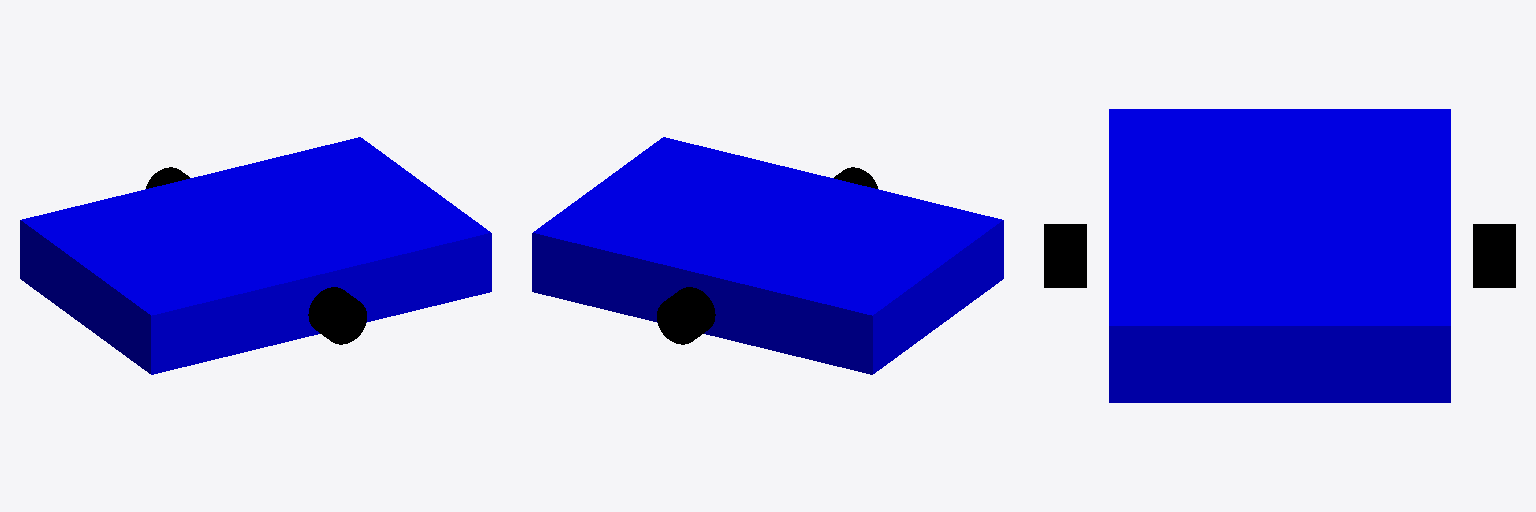
robot.urdf — working_mobile_robot:
<?xml version="1.0"?>
<robot name="working_mobile_robot">
  
  <!-- Base Link -->
  <link name="base_link">
    <inertial>
      <mass value="5.0"/>
      <inertia ixx="0.1" ixy="0.0" ixz="0.0" iyy="0.1" iyz="0.0" izz="0.1"/>
    </inertial>
    <visual>
      <geometry>
        <box size="0.6 0.4 0.1"/>
      </geometry>
      <material name="blue">
        <color rgba="0 0 1 1"/>
      </material>
    </visual>
    <collision>
      <geometry>
        <box size="0.6 0.4 0.1"/>
      </geometry>
    </collision>
  </link>

  <!-- Left Wheel -->
  <link name="left_wheel">
    <inertial>
      <mass value="1.0"/>
      <inertia ixx="0.1" ixy="0.0" ixz="0.0" iyy="0.1" iyz="0.0" izz="0.1"/>
    </inertial>
    <visual>
      <geometry>
        <cylinder radius="0.0375" length="0.05"/>
      </geometry>
      <material name="black">
        <color rgba="0 0 0 1"/>
      </material>
    </visual>
    <collision>
      <geometry>
        <cylinder radius="0.0375" length="0.05"/>
      </geometry>
    </collision>
  </link>

  <!-- Right Wheel -->
  <link name="right_wheel">
    <inertial>
      <mass value="1.0"/>
      <inertia ixx="0.1" ixy="0.0" ixz="0.0" iyy="0.1" iyz="0.0" izz="0.1"/>
    </inertial>
    <visual>
      <geometry>
        <cylinder radius="0.0375" length="0.05"/>
      </geometry>
      <material name="black">
        <color rgba="0 0 0 1"/>
      </material>
    </visual>
    <collision>
      <geometry>
        <cylinder radius="0.0375" length="0.05"/>
      </geometry>
    </collision>
  </link>

  <!-- Caster Front -->
  <link name="caster_front">
    <inertial>
      <mass value="0.5"/>
      <inertia ixx="0.01" ixy="0.0" ixz="0.0" iyy="0.01" iyz="0.0" izz="0.01"/>
    </inertial>
    <visual>
      <geometry>
        <sphere radius="0.02"/>
      </geometry>
      <material name="grey">
        <color rgba="0.5 0.5 0.5 1"/>
      </material>
    </visual>
    <collision>
      <geometry>
        <sphere radius="0.02"/>
      </geometry>
    </collision>
  </link>

  <!-- Caster Back -->
  <link name="caster_back">
    <inertial>
      <mass value="0.5"/>
      <inertia ixx="0.01" ixy="0.0" ixz="0.0" iyy="0.01" iyz="0.0" izz="0.01"/>
    </inertial>
    <visual>
      <geometry>
        <sphere radius="0.02"/>
      </geometry>
      <material name="grey">
        <color rgba="0.5 0.5 0.5 1"/>
      </material>
    </visual>
    <collision>
      <geometry>
        <sphere radius="0.02"/>
      </geometry>
    </collision>
  </link>

  <!-- Joints -->
  <joint name="left_wheel_joint" type="continuous">
    <parent link="base_link"/>
    <child link="left_wheel"/>
    <origin xyz="0 0.25 0" rpy="1.5708 0 0"/>
    <axis xyz="0 1 0"/>
    <limit effort="1000" velocity="100"/>
    <dynamics friction="0.01" damping="0.1"/>
  </joint>

  <joint name="right_wheel_joint" type="continuous">
    <parent link="base_link"/>
    <child link="right_wheel"/>
    <origin xyz="0 -0.25 0" rpy="1.5708 0 0"/>
    <axis xyz="0 1 0"/>
    <limit effort="1000" velocity="100"/>
    <dynamics friction="0.01" damping="0.1"/>
  </joint>

  <joint name="caster_front_joint" type="fixed">
    <parent link="base_link"/>
    <child link="caster_front"/>
    <origin xyz="0.25 0 -0.03"/>
  </joint>

  <joint name="caster_back_joint" type="fixed">
    <parent link="base_link"/>
    <child link="caster_back"/>
    <origin xyz="-0.25 0 -0.03"/>
  </joint>

  <!-- Gazebo Properties -->
  <gazebo reference="base_link">
    <material>Gazebo/Blue</material>
    <static>false</static>
  </gazebo>

  <gazebo reference="left_wheel">
    <material>Gazebo/Black</material>
    <mu1>1.5</mu1>
    <mu2>1.5</mu2>
    <static>false</static>
  </gazebo>

  <gazebo reference="right_wheel">
    <material>Gazebo/Black</material>
    <mu1>1.5</mu1>
    <mu2>1.5</mu2>
    <static>false</static>
  </gazebo>

  <gazebo reference="caster_front">
    <material>Gazebo/Grey</material>
    <mu1>0.1</mu1>
    <mu2>0.1</mu2>
    <static>false</static>
  </gazebo>

  <gazebo reference="caster_back">
    <material>Gazebo/Grey</material>
    <mu1>0.1</mu1>
    <mu2>0.1</mu2>
    <static>false</static>
  </gazebo>

  <!-- Physics System -->
  <gazebo>
    <plugin filename="gz-sim-physics-system" name="gz::sim::systems::Physics"/>
  </gazebo>

  <!-- Differential Drive Plugin -->
  <gazebo>
    <plugin filename="gz-sim-diff-drive-system" name="gz::sim::systems::DiffDrive">
      <left_joint>left_wheel_joint</left_joint>
      <right_joint>right_wheel_joint</right_joint>
      <wheel_separation>0.5</wheel_separation>
      <wheel_radius>0.0375</wheel_radius>
      <max_wheel_torque>1000</max_wheel_torque>
      <max_wheel_acceleration>10.0</max_wheel_acceleration>
      <max_wheel_velocity>10.0</max_wheel_velocity>
      <topic>cmd_vel</topic>
      <odom_topic>odom</odom_topic>
      <frame_id>odom</frame_id>
      <child_frame_id>base_link</child_frame_id>
    </plugin>
  </gazebo>

</robot>

--- Render facts (derived) ---
The picture shows the robot from 3 angles, left to right: view 1: azimuth 30°, elevation 25°; view 2: azimuth 150°, elevation 25°; view 3: azimuth 270°, elevation 25°; orthographic projection.
Robot: working_mobile_robot — 5 links, 4 joints (2 continuous, 2 fixed); root link base_link; default pose: all joints at 0.
Visible links, largest first — view 1: base_link, right_wheel; view 2: base_link, left_wheel; view 3: base_link, left_wheel, right_wheel.
Boxes of the visible links, bbox=[...] form: base_link: bbox=[20, 137, 491, 374]; right_wheel: bbox=[308, 287, 366, 344]; base_link: bbox=[532, 137, 1003, 374]; left_wheel: bbox=[657, 287, 715, 344]; base_link: bbox=[1109, 109, 1450, 402]; left_wheel: bbox=[1473, 224, 1515, 287]; right_wheel: bbox=[1044, 224, 1086, 287].
Bounding box of the posed robot: 0.6 × 0.55 × 0.1 m (x, y, z).
Geometry: primitives only (box / cylinder / sphere), no mesh files.